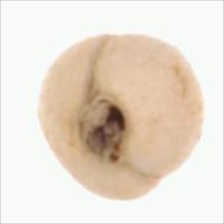L3: (76, 92, 128, 164)
L4: (38, 33, 203, 201)
